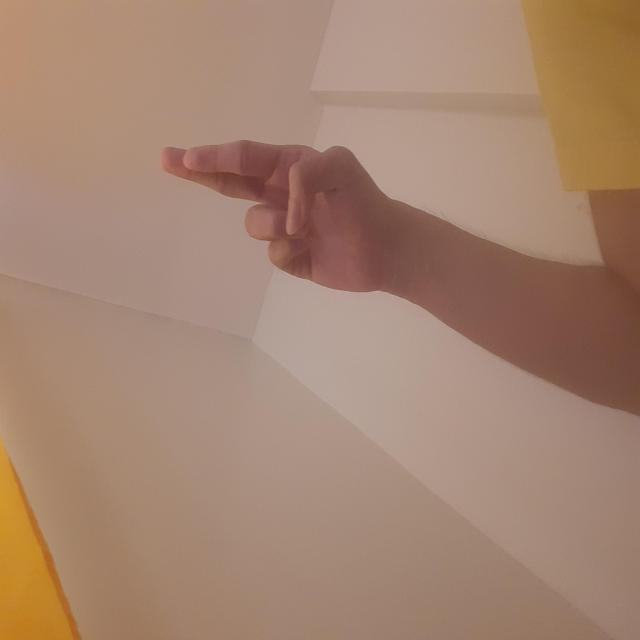R: (348, 160, 500, 382)
